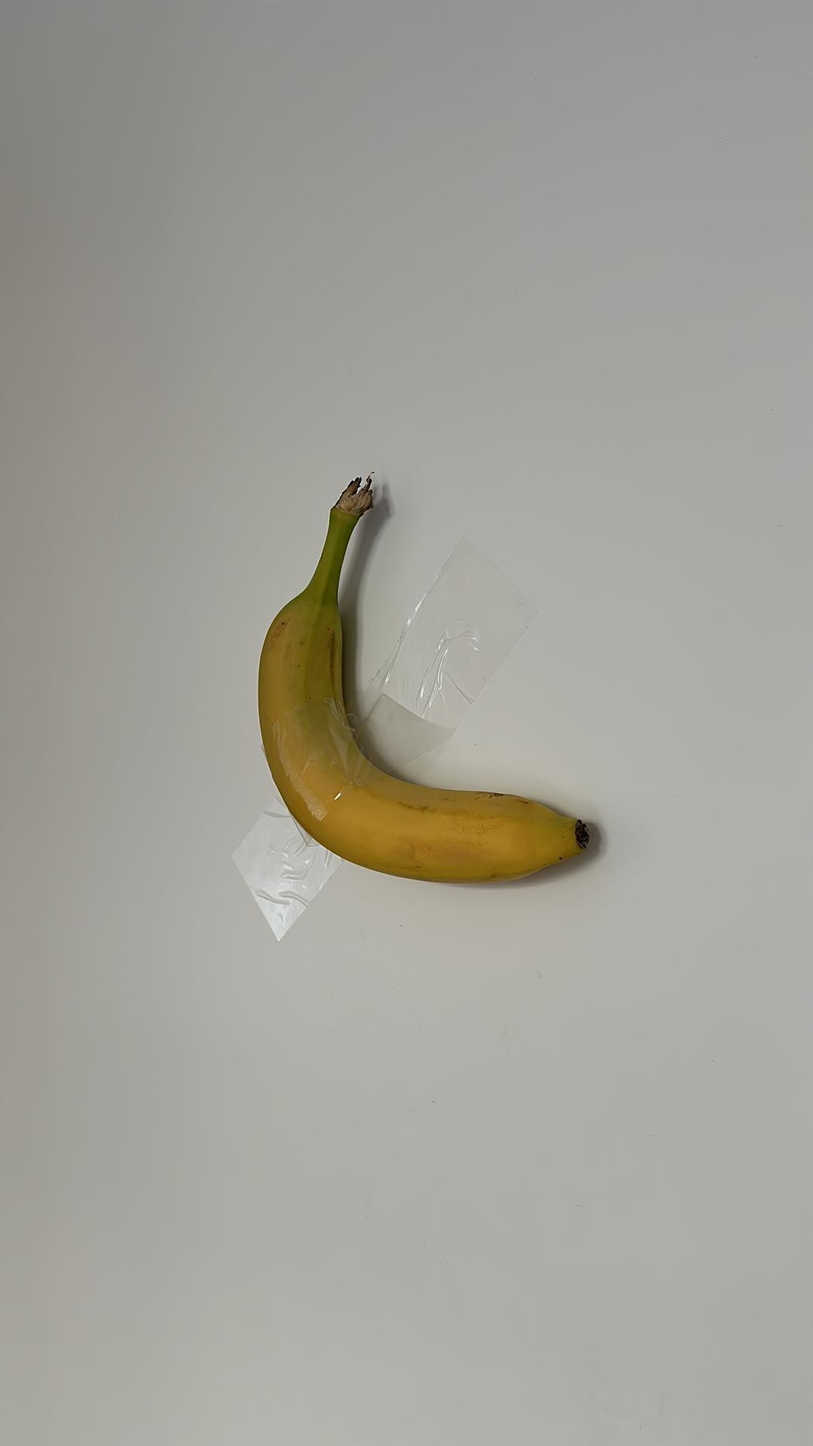banana: (256, 477, 601, 885)
